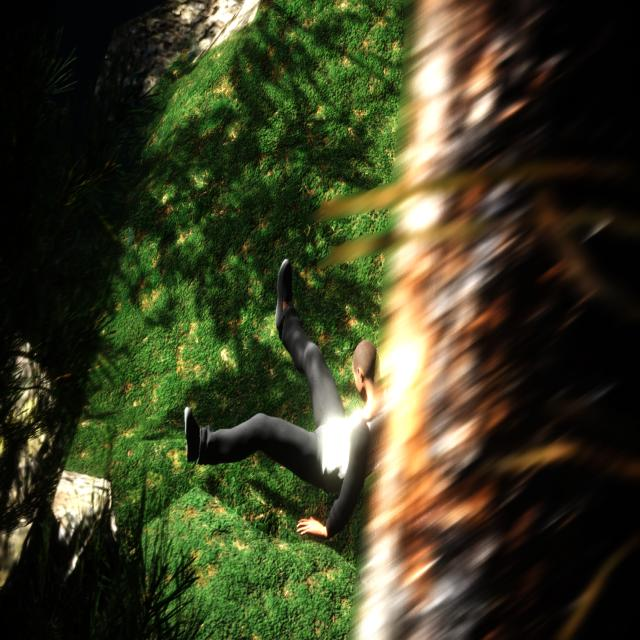Human: (178, 248, 399, 545)
